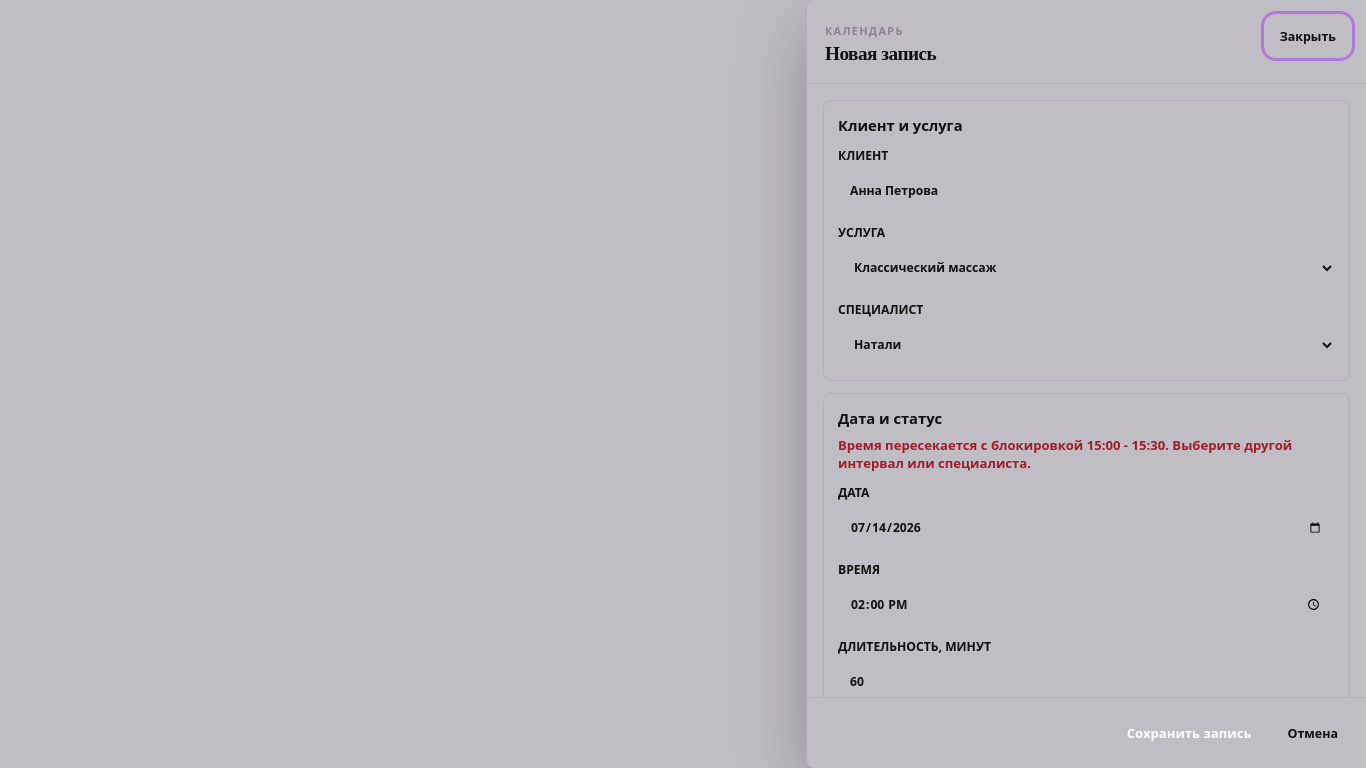
CalendarAppointmentDialog › blocks an appointment that crosses personal time for the same specialist
The width and height of the screenshot is (1366, 768).
Expected: the message shows "Время пересекается с блокировкой 15:00 - 15:30", [838,436,1335,472]
What coordinates should you click on to do the following:
click the button "Сохранить запись"
I would click on:
 (1189, 733)
Its box is [1113,712,1266,754].
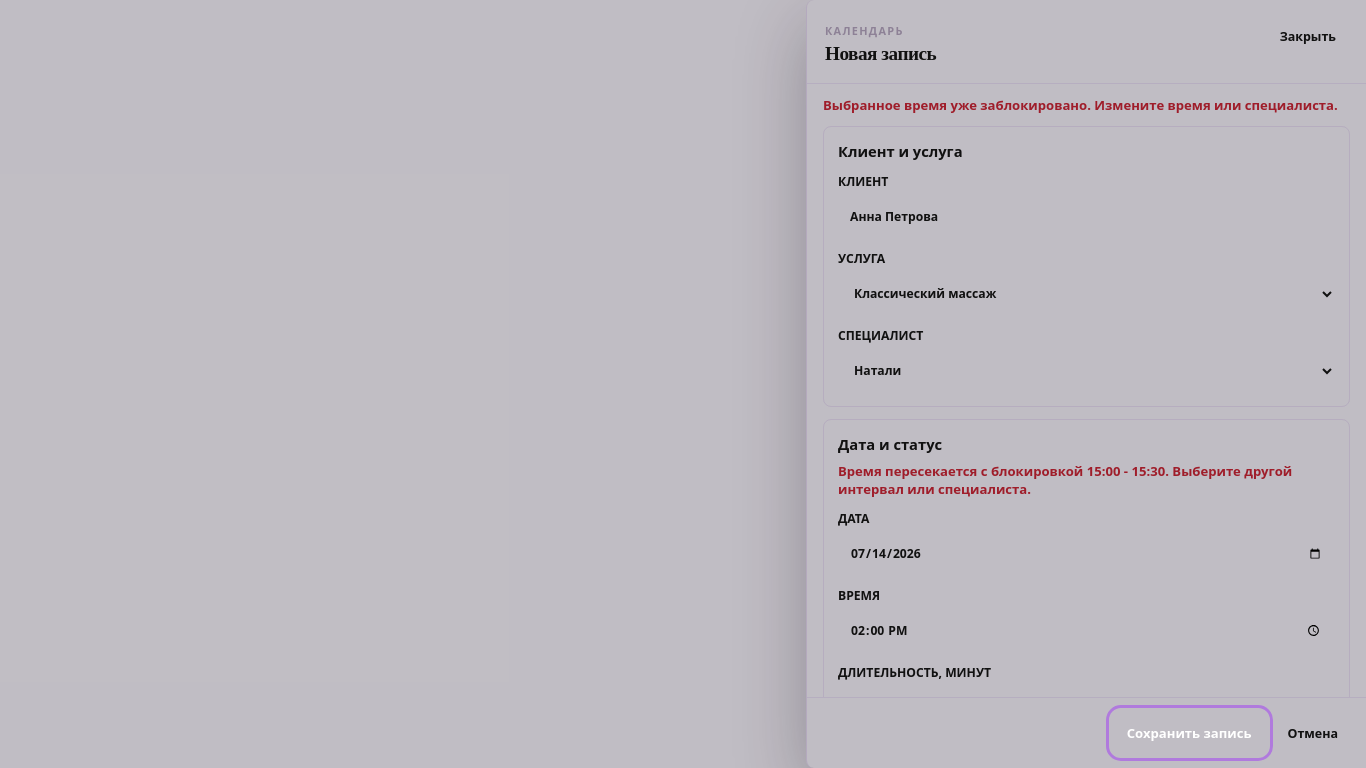
Expected: the message "Выбранное время уже заблокировано. Измените время или специалиста." is shown, [823,96,1350,114]
